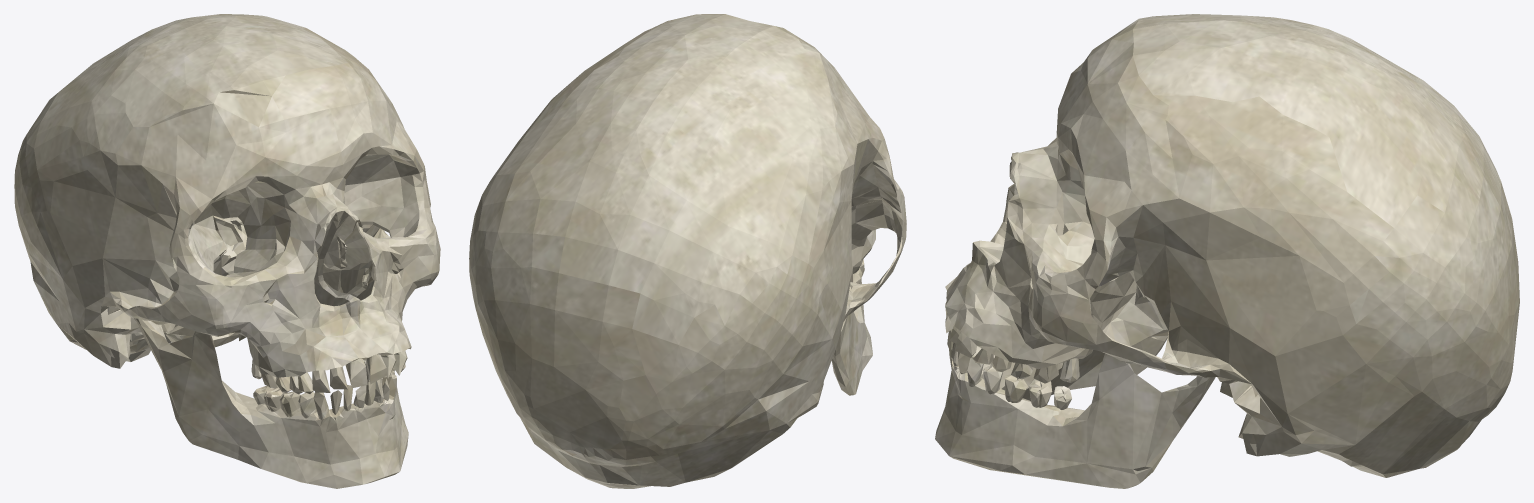
File: skull_hires.obj
3 renders of one model, left to right at view 1: azimuth 30°, elevation 25°; view 2: azimuth 150°, elevation 25°; view 3: azimuth 270°, elevation 25°, orthographic. The views are drawn at different scales.
Parts seen in each view (by area): view 1: Skull; view 2: Skull; view 3: Skull.
Boxes of the visible parts, x1,y1,x2,y2 form: Skull: (14,14,440,488); Skull: (469,14,906,488); Skull: (935,14,1519,488).
Size of the model in its own units: 0.3695 by 0.4072 by 0.521.
1 material, 1 textured.
